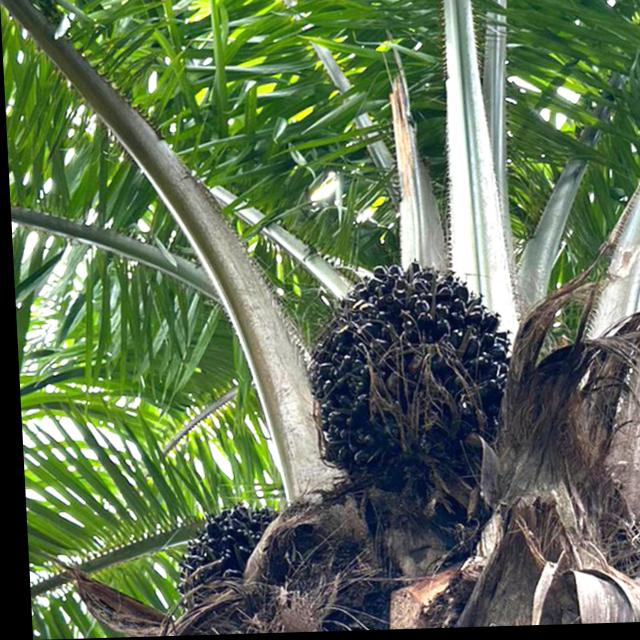unripe: (298, 257, 514, 490), (160, 500, 287, 621)
